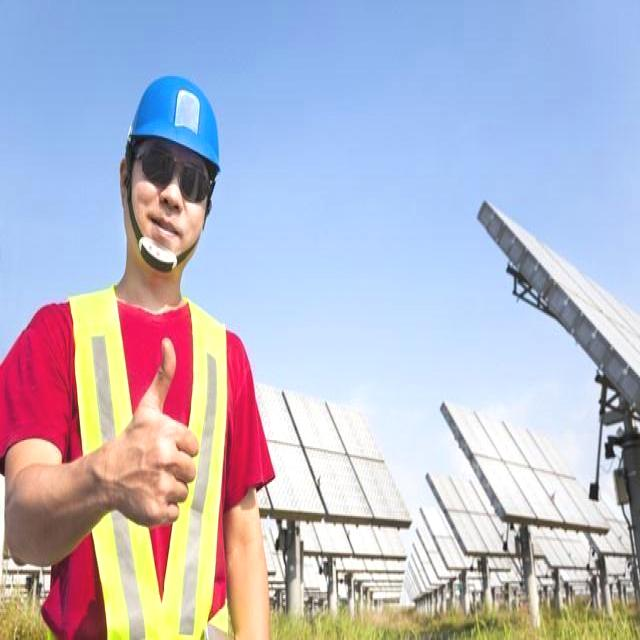face_nomask: (120, 132, 209, 277)
glasses: (138, 141, 212, 205)
hand_noglove: (100, 338, 202, 528)
head_helmet: (124, 74, 229, 170)
person: (40, 69, 261, 640)
vest: (62, 293, 225, 640)
